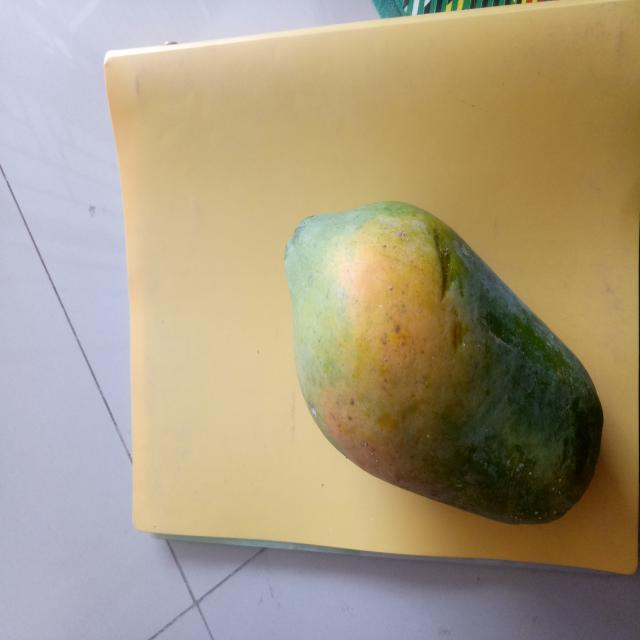Pepaya rippen: (267, 176, 605, 532)
